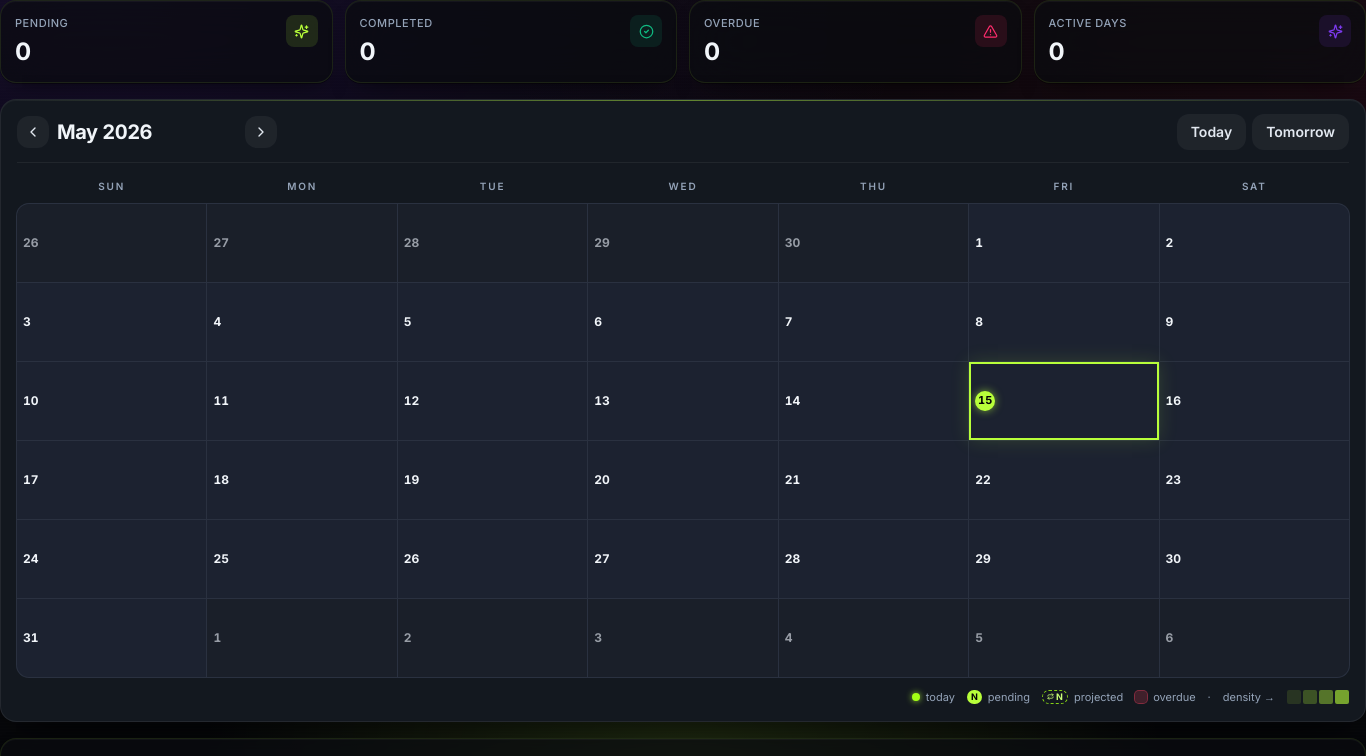
Test: Calendar · navigation › Next button advances by one month
Click the button titled "Next month" at (261, 132), box [245,116,277,148]
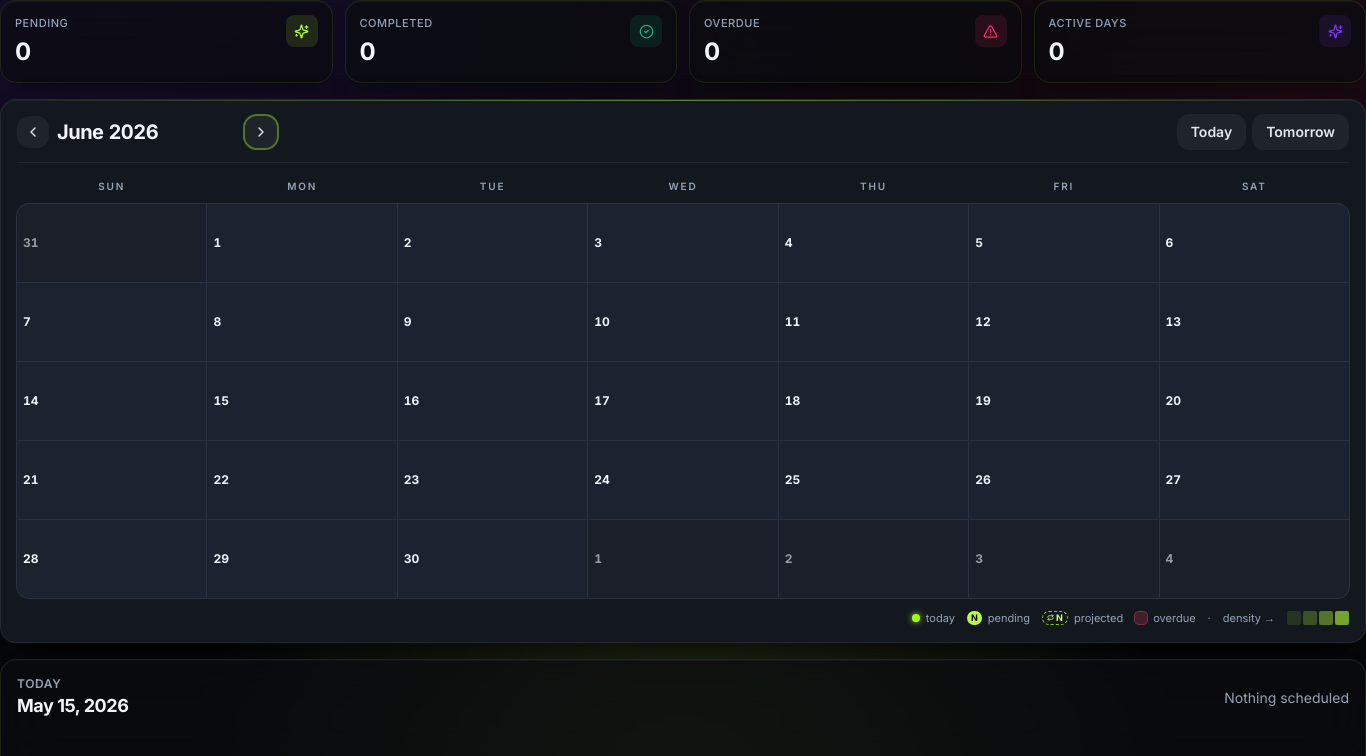
Expected: the heading "June 2026" is shown, [57,120,158,144]
